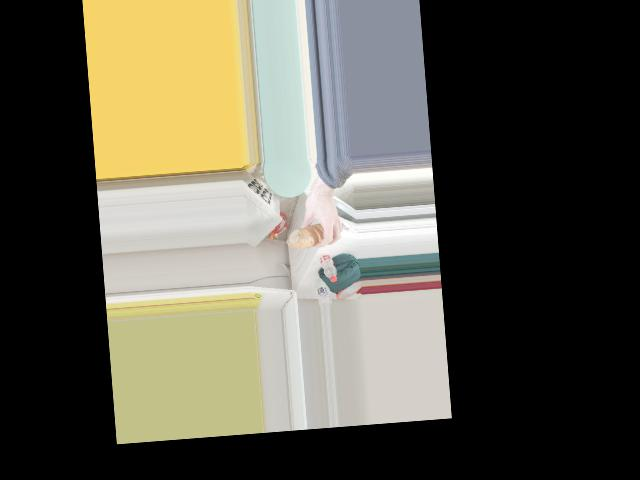sweet_potato: (294, 217, 328, 251)
